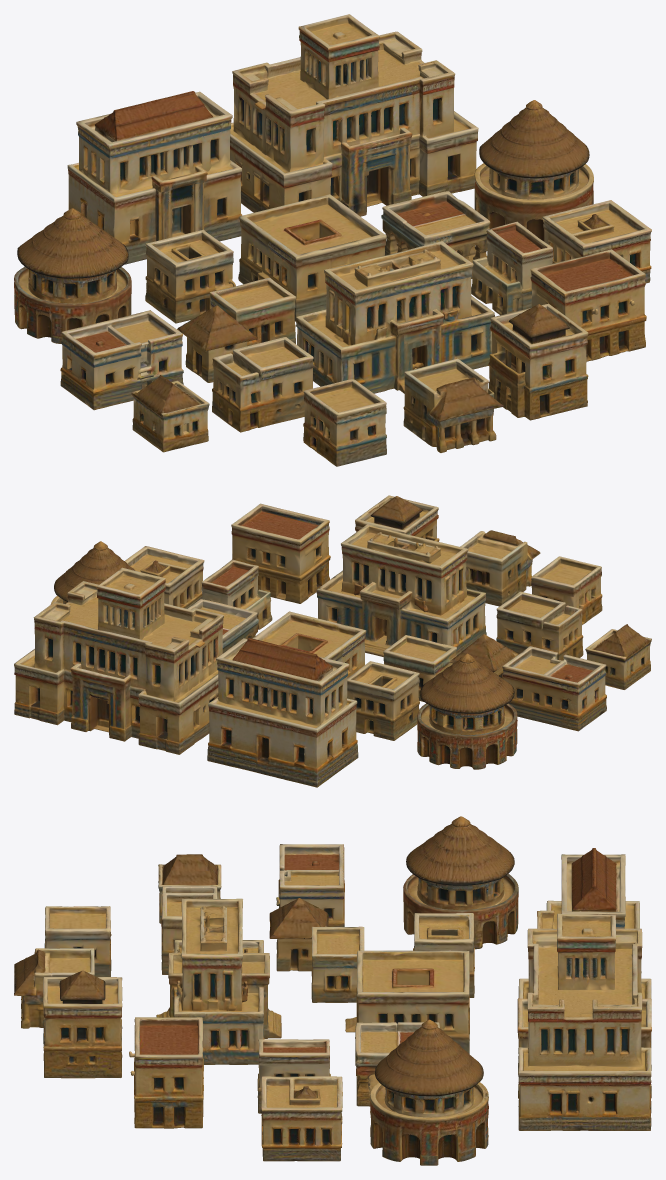
The model's file is Enlightenment Town (East African).fbx.
3 views of the same model, one above another, from view 1: azimuth 30°, elevation 25°; view 2: azimuth 150°, elevation 25°; view 3: azimuth 270°, elevation 25° (orthographic). The views are drawn at different scales.
Parts seen in each view (by area): view 1: tripo_node_aedb279c; view 2: tripo_node_aedb279c; view 3: tripo_node_aedb279c.
Part boxes in pixels (left/top/right/bottom): tripo_node_aedb279c: left=14, top=14, right=651, bottom=466; tripo_node_aedb279c: left=14, top=495, right=651, bottom=787; tripo_node_aedb279c: left=14, top=816, right=651, bottom=1165.
Size of the model in its own units: 1 by 0.2823 by 0.9853.
